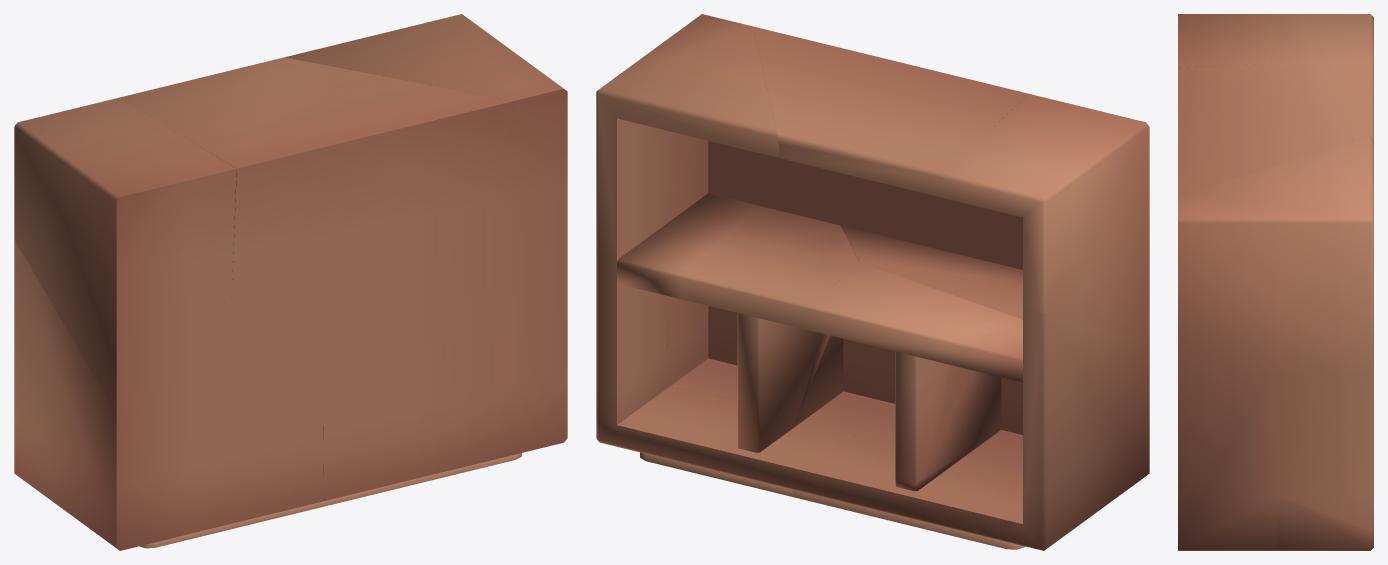
File: BookShelves1.fbx
3 views of the same model, side by side, from view 1: azimuth 30°, elevation 25°; view 2: azimuth 150°, elevation 25°; view 3: azimuth 270°, elevation 25° (orthographic). The views are drawn at different scales.
Visible parts, largest first — view 1: BookShelves1.002_cell.003, BookShelves1.002_cell.005, BookShelves1.002_cell.001, BookShelves1.002_cell.007, BookShelves1.002_cell.004, BookShelves1.001_cell.001, BookShelves1.001_cell.003; view 2: BookShelves1.002_cell.001, BookShelves1.002_cell.003, BookShelves1.002_cell.005, BookShelves1.002_cell.004, BookShelves1.003_cell.002, BookShelves1.003_cell.001, BookShelves1.002_cell.006, BookShelves1.002_cell.007, BookShelves1.002_cell.002, BookShelves1.003_cell.004, BookShelves1.003_cell.003, BookShelves1.003_cell.006 (+3 smaller); view 3: BookShelves1.002_cell.004, BookShelves1.002_cell.003, BookShelves1.002_cell.007, BookShelves1.002_cell.002, BookShelves1.002_cell.005, BookShelves1.002_cell.006.
Part boxes in pixels (left/top/right/bottom): BookShelves1.002_cell.003: left=118, top=57, right=513, bottom=415; BookShelves1.002_cell.005: left=14, top=98, right=236, bottom=414; BookShelves1.002_cell.001: left=14, top=239, right=323, bottom=550; BookShelves1.002_cell.007: left=323, top=212, right=567, bottom=500; BookShelves1.002_cell.004: left=285, top=14, right=567, bottom=231; BookShelves1.001_cell.001: left=139, top=497, right=342, bottom=548; BookShelves1.001_cell.003: left=342, top=453, right=521, bottom=501; BookShelves1.002_cell.001: left=806, top=307, right=1149, bottom=550; BookShelves1.002_cell.003: left=752, top=26, right=1028, bottom=269; BookShelves1.002_cell.005: left=942, top=94, right=1149, bottom=340; BookShelves1.002_cell.004: left=596, top=14, right=779, bottom=261; BookShelves1.003_cell.002: left=680, top=206, right=859, bottom=452; BookShelves1.003_cell.001: left=808, top=263, right=1022, bottom=483; BookShelves1.002_cell.006: left=596, top=347, right=867, bottom=493; BookShelves1.002_cell.007: left=667, top=167, right=895, bottom=426; BookShelves1.002_cell.002: left=596, top=254, right=670, bottom=422; BookShelves1.003_cell.004: left=840, top=225, right=1022, bottom=372; BookShelves1.003_cell.003: left=617, top=193, right=761, bottom=298; BookShelves1.003_cell.006: left=895, top=369, right=1001, bottom=491; BookShelves1.002_cell.004: left=1178, top=136, right=1373, bottom=381; BookShelves1.002_cell.003: left=1178, top=60, right=1373, bottom=194; BookShelves1.002_cell.007: left=1178, top=337, right=1279, bottom=550; BookShelves1.002_cell.002: left=1267, top=374, right=1373, bottom=530; BookShelves1.002_cell.005: left=1178, top=14, right=1373, bottom=67; BookShelves1.002_cell.006: left=1275, top=492, right=1373, bottom=550.
Bounding box in the file's own units: 0.6103 × 1.53 × 1.18.
